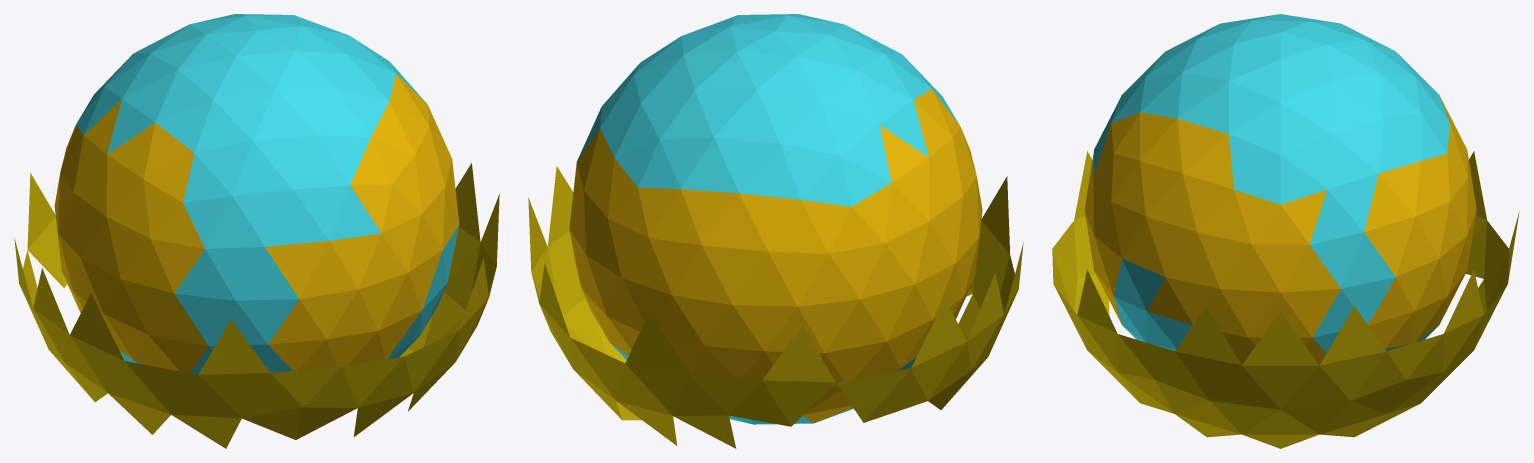
The picture shows the model from 3 angles, left to right: view 1: azimuth 30°, elevation 25°; view 2: azimuth 150°, elevation 25°; view 3: azimuth 270°, elevation 25°; orthographic projection. The views are drawn at different scales.
Visible parts, largest first — view 1: Surface, Clouds; view 2: Surface, Clouds; view 3: Surface, Clouds.
Part boxes in pixels (box(x1,y1,x2,y2)): Surface: box(54, 14, 459, 374); Clouds: box(14, 163, 499, 448); Surface: box(569, 14, 982, 424); Clouds: box(528, 166, 1023, 448); Surface: box(1084, 14, 1476, 365); Clouds: box(1052, 151, 1519, 448).
Size of the model in its own units: 244 by 209 by 238.
